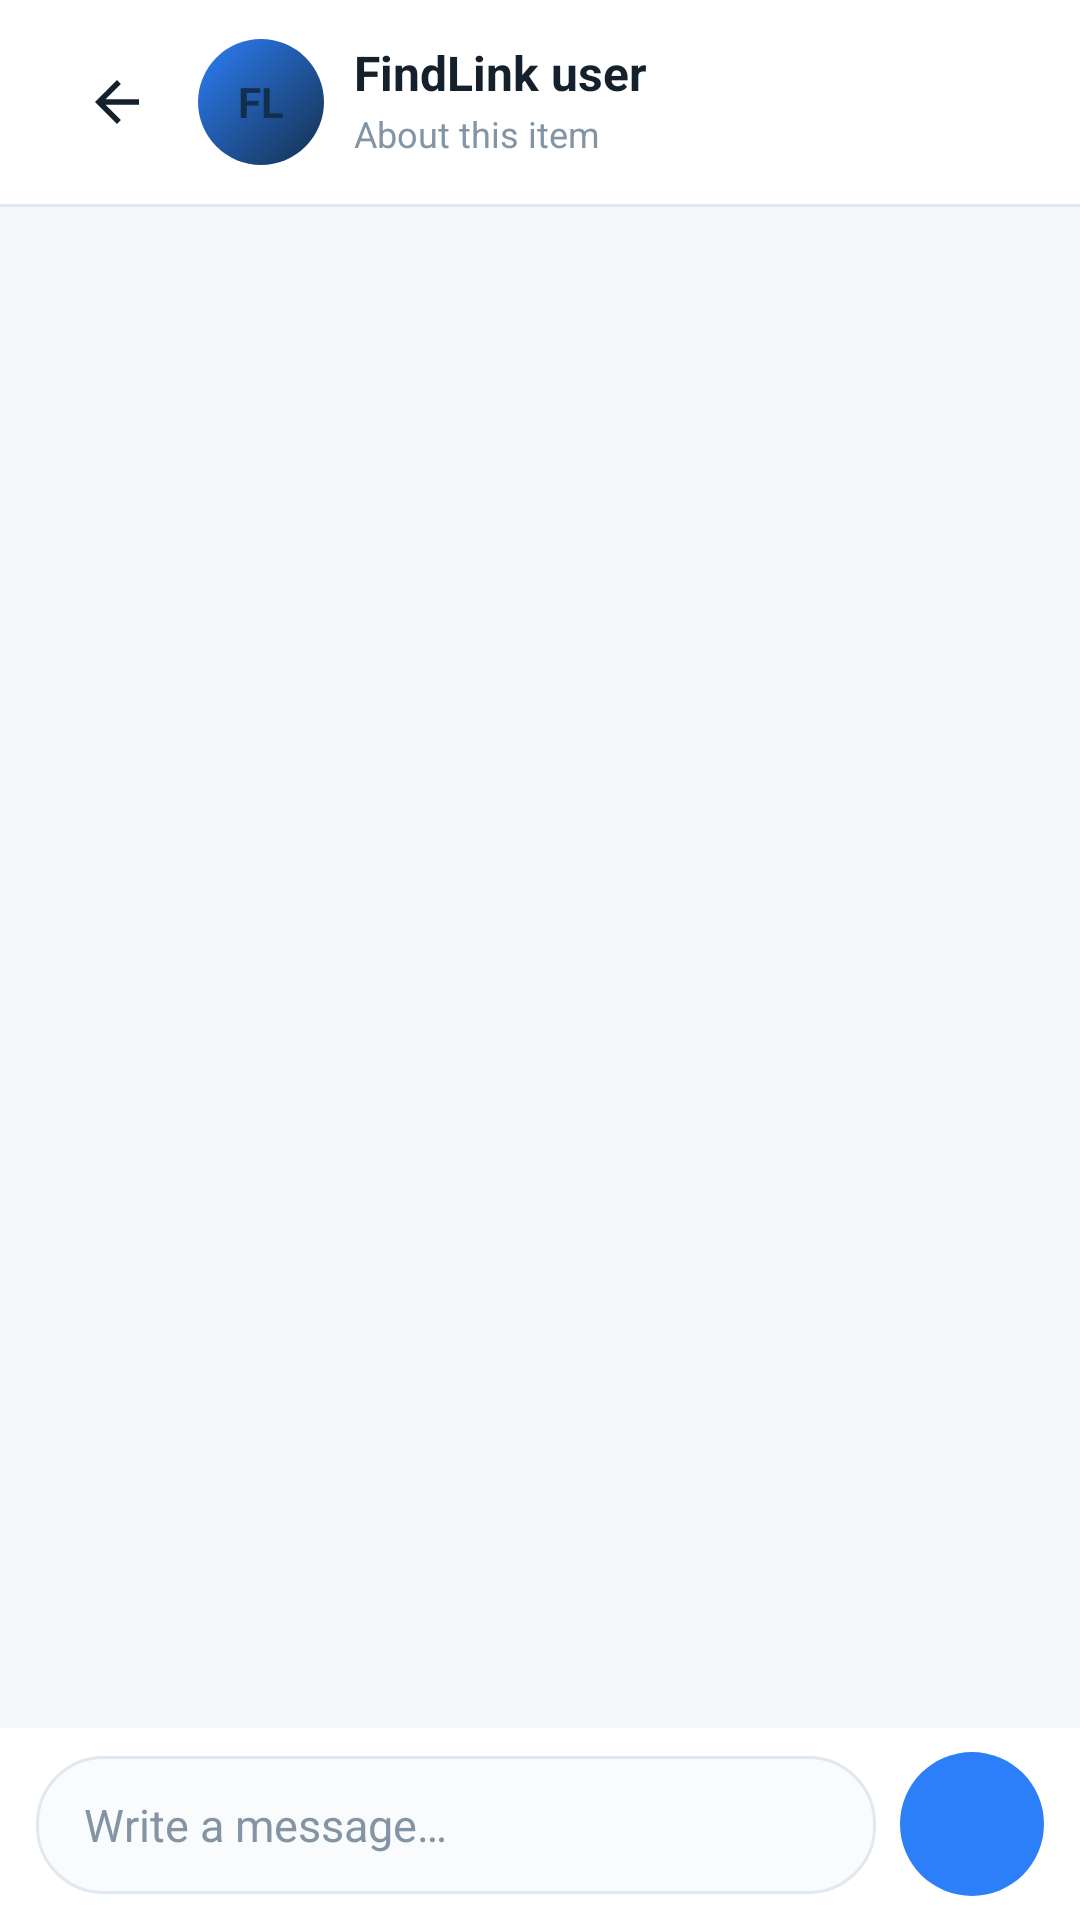

Screen size 1080x1920. Icon name, then its box in pixels as (x1, y1, x2, y2):
Back: (95, 80, 139, 124)
